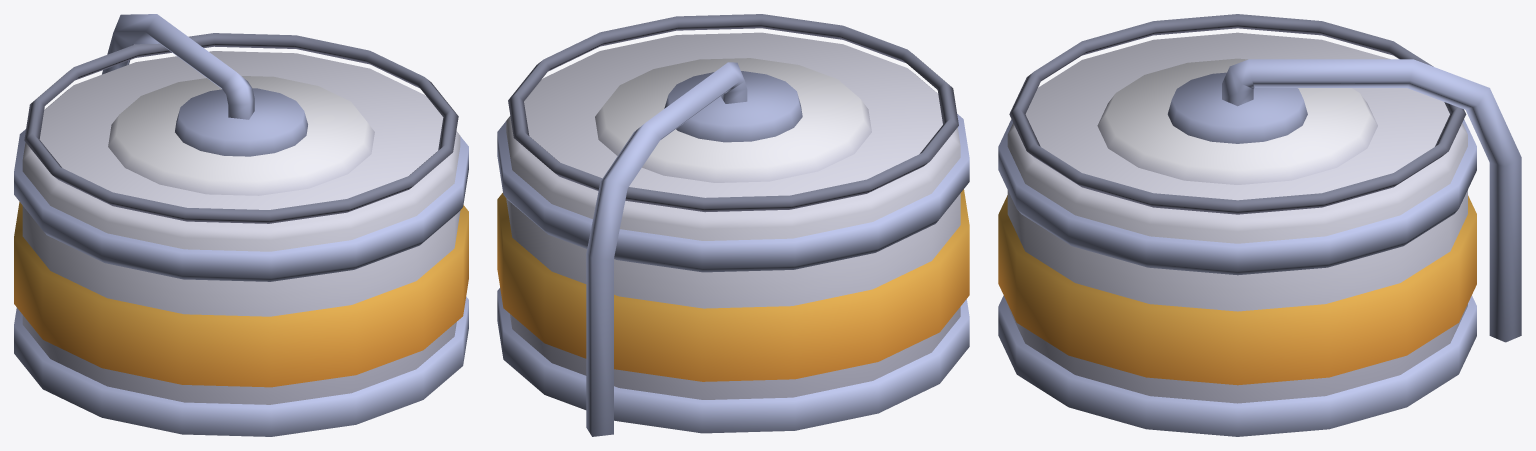
The model's file is tank.glb.
3 views of the same model, side by side, from view 1: azimuth 30°, elevation 25°; view 2: azimuth 150°, elevation 25°; view 3: azimuth 270°, elevation 25° (orthographic). The views are drawn at different scales.
Parts seen in each view (by area): view 1: detail-tank-large; view 2: detail-tank-large; view 3: detail-tank-large.
Boxes of the visible parts, x1,y1,x2,y2 form: detail-tank-large: (14,14,468,436); detail-tank-large: (497,14,969,436); detail-tank-large: (998,14,1521,436).
Size of the model in its own units: 1.51 by 0.9616 by 1.65.
1 material, 1 textured.
